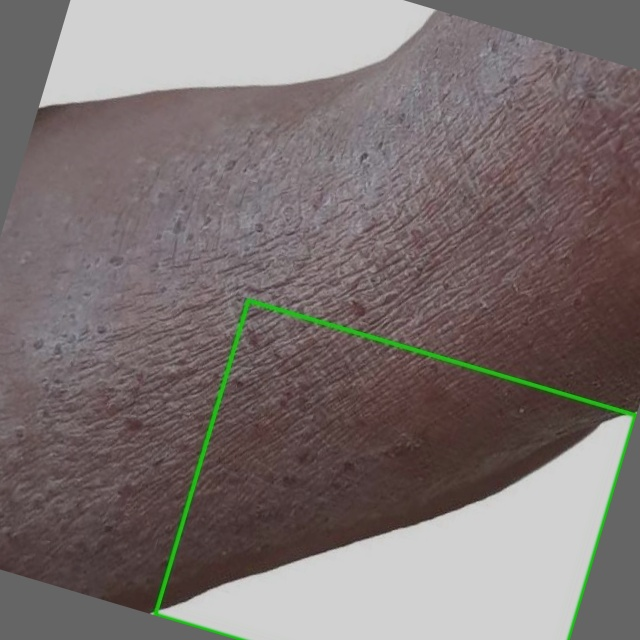Contact Dermatitis: (155, 300, 635, 639)
